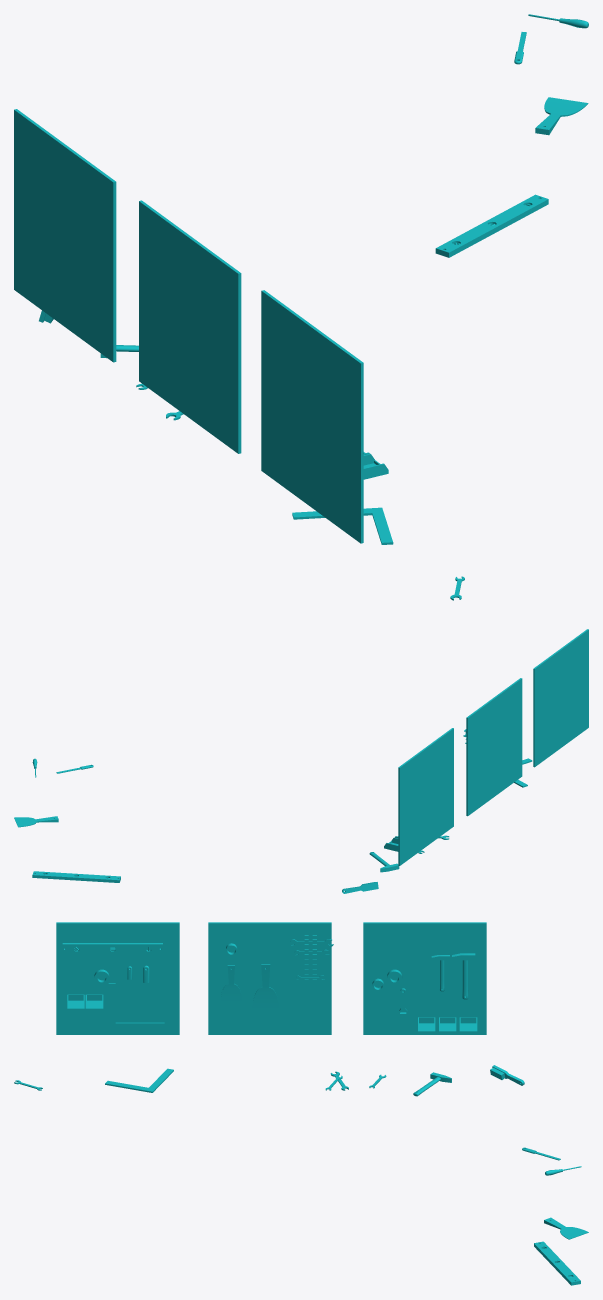
The model's file is mat_tool_stand.mtl.obj.
3 views of the same model, one above another, from view 1: azimuth 30°, elevation 25°; view 2: azimuth 150°, elevation 25°; view 3: azimuth 270°, elevation 25° (orthographic). The views are drawn at different scales.
Parts seen in each view (by area): view 1: prop_garage_tool_stand.013, prop_garage_tool_stand.014, prop_garage_tool_stand.015, prop_garage_tool_stand.039, prop_garage_tool_stand.047, prop_garage_tool_stand.037; view 2: prop_garage_tool_stand.014, prop_garage_tool_stand.013, prop_garage_tool_stand.015, prop_garage_tool_stand.039; view 3: prop_garage_tool_stand.014, prop_garage_tool_stand.015, prop_garage_tool_stand.013, prop_garage_tool_stand.036, prop_garage_tool_stand.023, prop_garage_tool_stand.029, prop_garage_tool_stand.039.
Boxes of the visible parts, x1=… form: prop_garage_tool_stand.013: x1=261, y1=290, x2=363, y2=543; prop_garage_tool_stand.014: x1=139, y1=200, x2=241, y2=453; prop_garage_tool_stand.015: x1=14, y1=109, x2=116, y2=362; prop_garage_tool_stand.039: x1=435, y1=194, x2=548, y2=257; prop_garage_tool_stand.047: x1=535, y1=97, x2=588, y2=135; prop_garage_tool_stand.037: x1=292, y1=507, x2=393, y2=544; prop_garage_tool_stand.014: x1=466, y1=678, x2=522, y2=816; prop_garage_tool_stand.013: x1=533, y1=629, x2=588, y2=767; prop_garage_tool_stand.015: x1=398, y1=728, x2=453, y2=865; prop_garage_tool_stand.039: x1=32, y1=871, x2=120, y2=882; prop_garage_tool_stand.014: x1=208, y1=922, x2=331, y2=1034; prop_garage_tool_stand.015: x1=363, y1=922, x2=486, y2=1034; prop_garage_tool_stand.013: x1=56, y1=922, x2=179, y2=1034; prop_garage_tool_stand.036: x1=62, y1=943, x2=162, y2=953; prop_garage_tool_stand.023: x1=108, y1=983, x2=164, y2=1029; prop_garage_tool_stand.029: x1=252, y1=964, x2=278, y2=1007; prop_garage_tool_stand.039: x1=534, y1=1241, x2=580, y2=1285.
Size of the model in its own units: 4.08 by 1.78 by 5.11.
